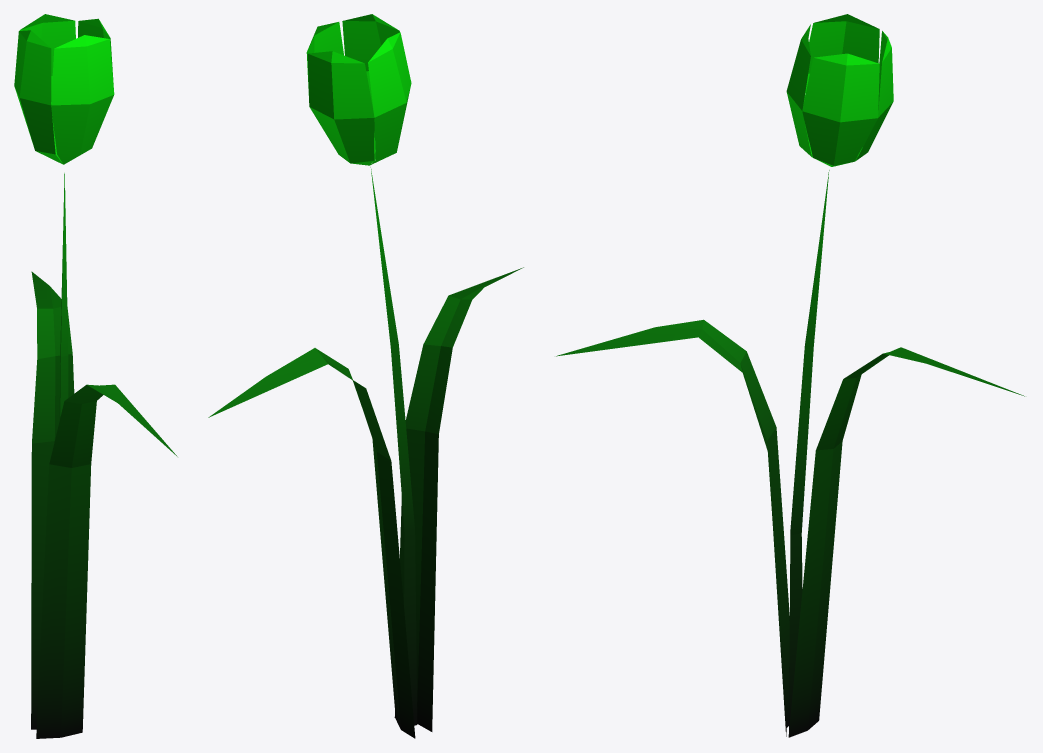
Rendered from SM_Flower_05.fbx.
The picture shows the model from 3 angles, left to right: view 1: azimuth 30°, elevation 25°; view 2: azimuth 150°, elevation 25°; view 3: azimuth 270°, elevation 25°; orthographic projection. The views are drawn at different scales.
Visible parts, largest first — view 1: SM_Flower_05; view 2: SM_Flower_05; view 3: SM_Flower_05.
Part boxes in pixels (box(x1,y1,x2,y2)): SM_Flower_05: box(14, 14, 177, 738); SM_Flower_05: box(208, 14, 523, 738); SM_Flower_05: box(556, 14, 1024, 737).
Size of the model in its own units: 14.17 by 87.15 by 52.44.
